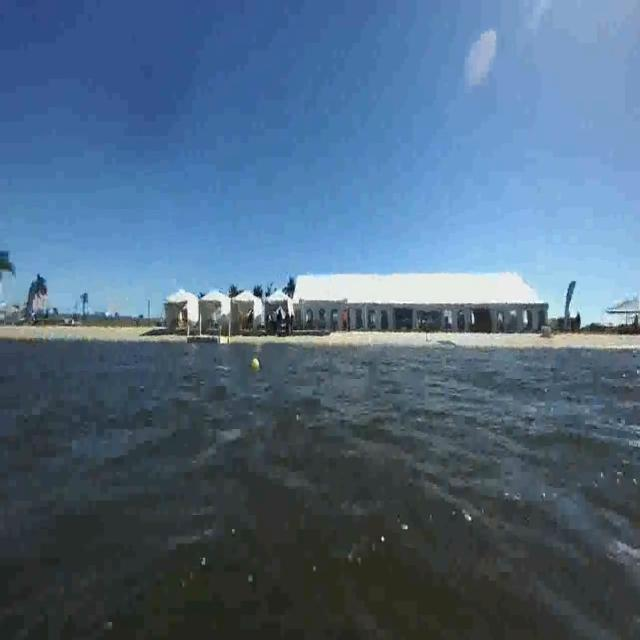yellow-buoy: (251, 356, 260, 371)
